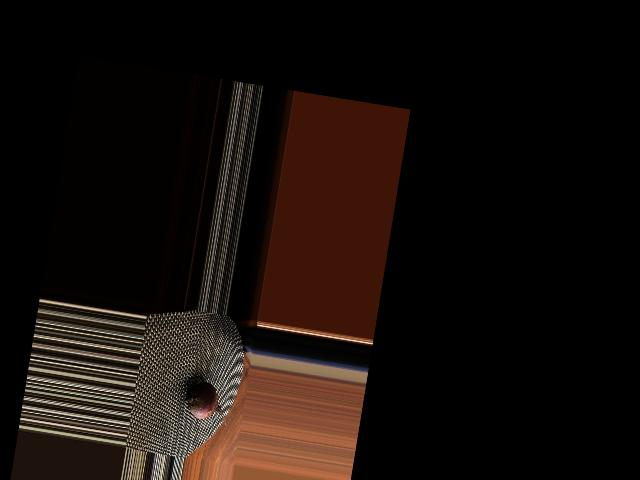beet: (179, 373, 232, 428)
